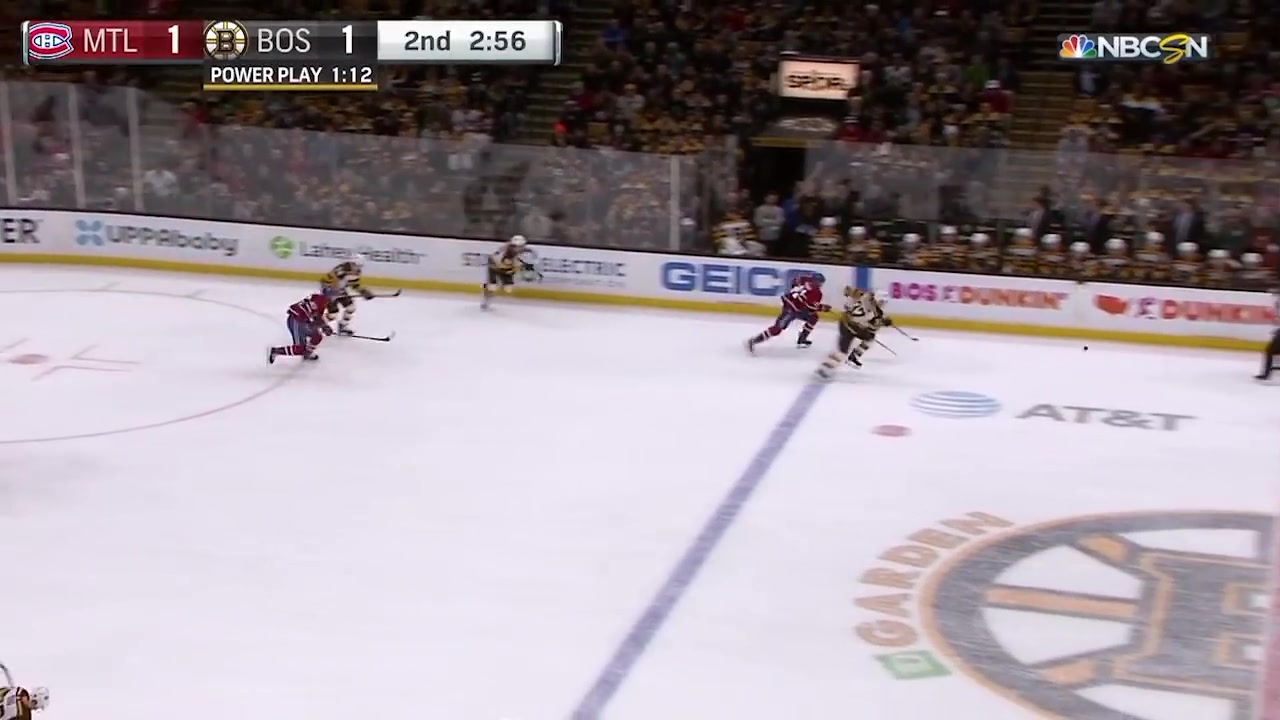geico: (657, 249, 813, 307)
